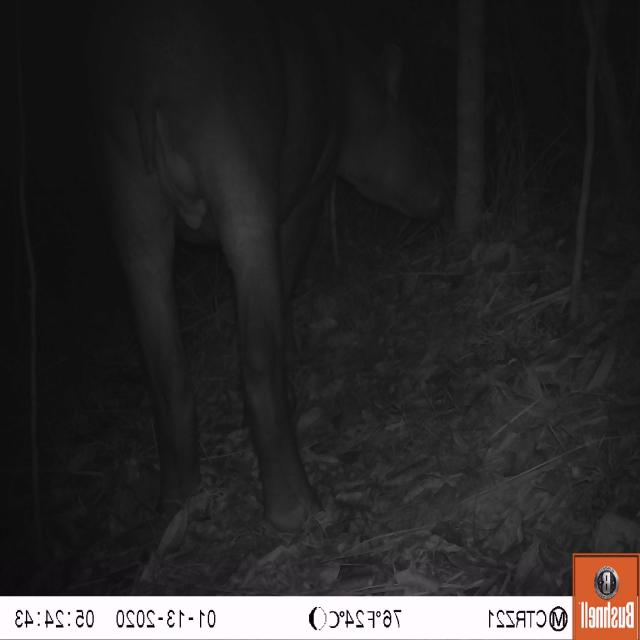Lowland Tapir: (71, 2, 463, 544)
